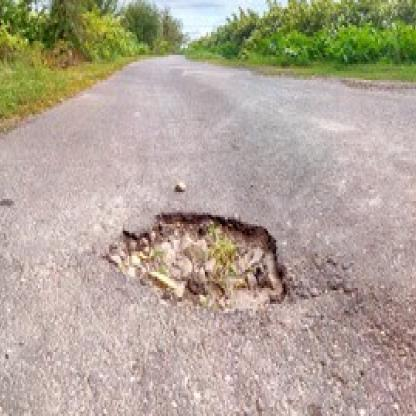pothole: (108, 219, 290, 306)
